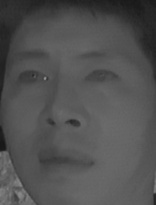eye: (83, 65, 123, 86), (15, 67, 50, 87)
mouth: (34, 139, 96, 181)
